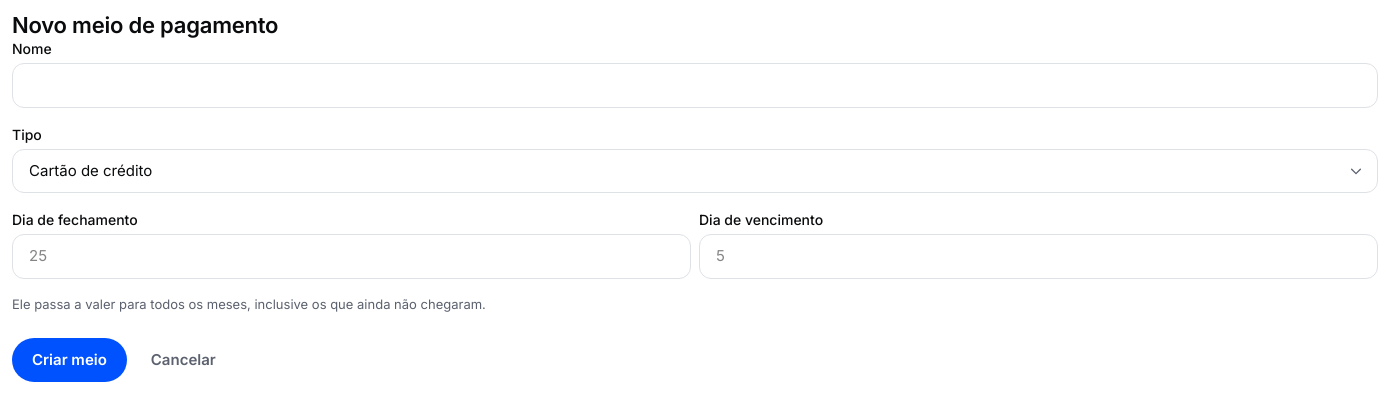
Test: os dias só com cartão (CADCOL-08, AC 2) › escolher Conta corrente tira os dois dias, e voltar a Cartão de crédito os traz
Expected: the field labelled "Dia de fechamento" is shown, [12,234,691,279]
Expected: the field labelled "Dia de vencimento" is shown, [699,234,1378,279]
Select "Conta corrente" in the dropdown labelled "Tipo" at [695, 171], box [12,149,1378,193]
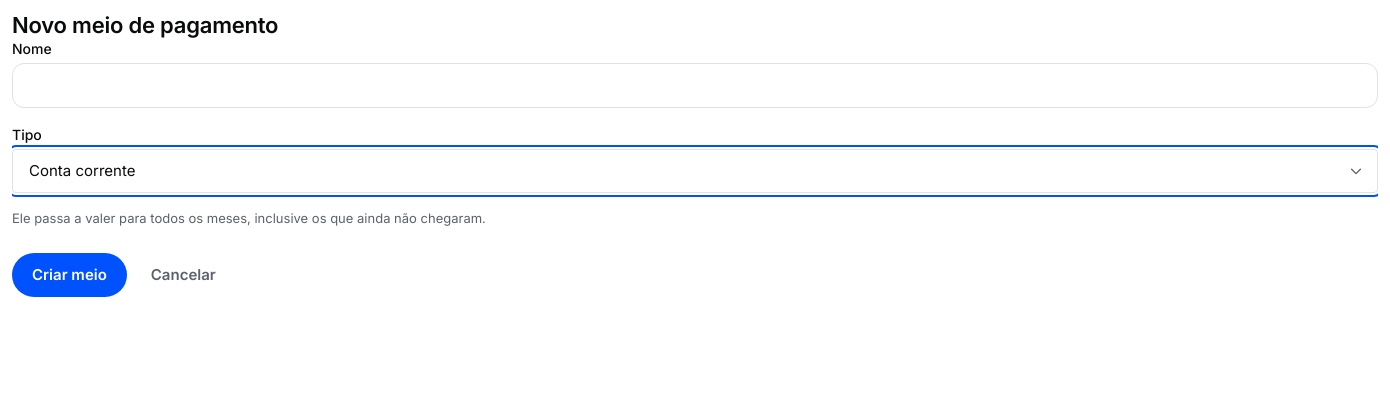
Expected: the label "Dia de fechamento" is gone
Expected: the label "Dia de vencimento" is gone
Select "Cartão de crédito" in the dropdown labelled "Tipo" at [695, 171], box [12,149,1378,193]
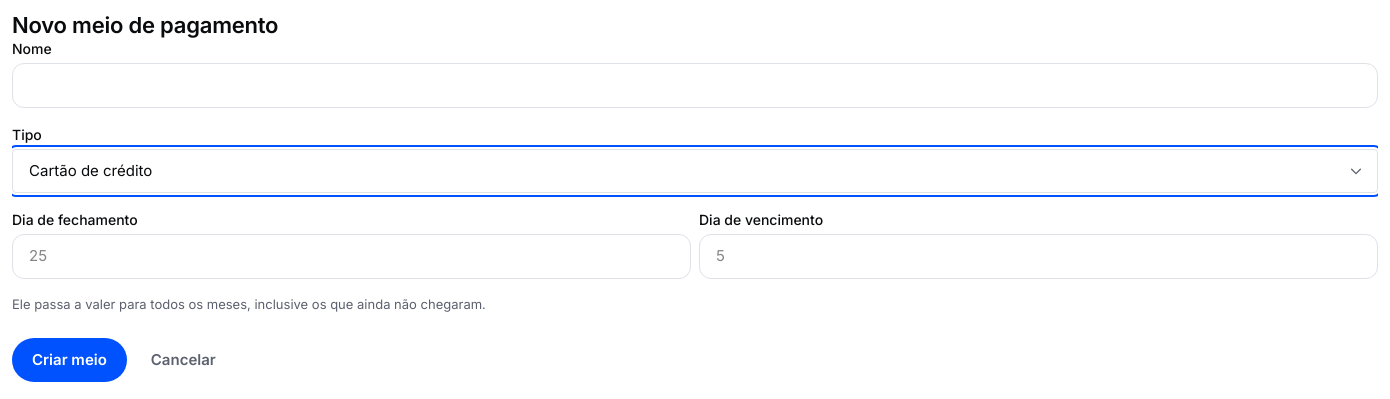
Expected: the field labelled "Dia de fechamento" is shown, [12,234,691,279]
Expected: the field labelled "Dia de vencimento" is shown, [699,234,1378,279]
